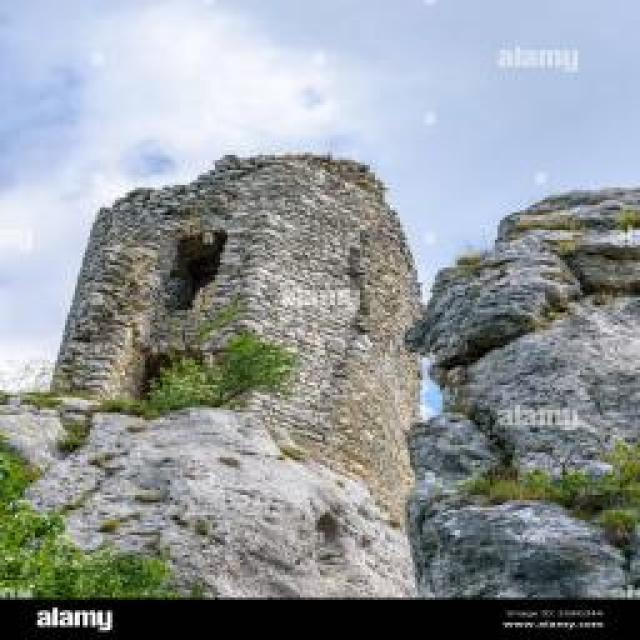crack: (422, 199, 639, 392)
vegetation: (427, 427, 640, 597), (0, 434, 200, 599)
